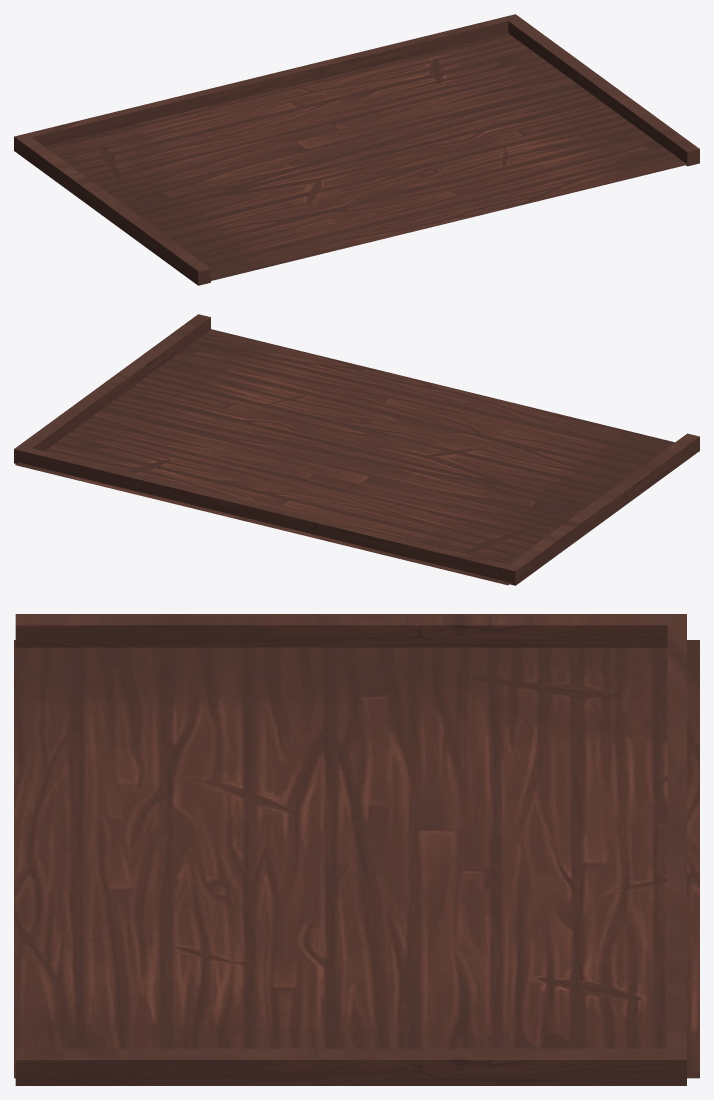
The model's file is floor.FBX.
3 views of the same model, one above another, from view 1: azimuth 30°, elevation 25°; view 2: azimuth 150°, elevation 25°; view 3: azimuth 270°, elevation 25° (orthographic). The views are drawn at different scales.
Parts seen in each view (by area): view 1: Plane001, C-Ext017; view 2: Plane001, C-Ext017; view 3: Plane001, C-Ext017.
Boxes of the visible parts, x1,y1,x2,y2 form: Plane001: (44,33,695,282); C-Ext017: (14,14,699,285); Plane001: (15,329,674,585); C-Ext017: (14,314,699,585); Plane001: (14,640,699,1078); C-Ext017: (15,614,686,1085).
Size of the model in its own units: 1110 by 30.29 by 722.
2 materials, 2 textured.
